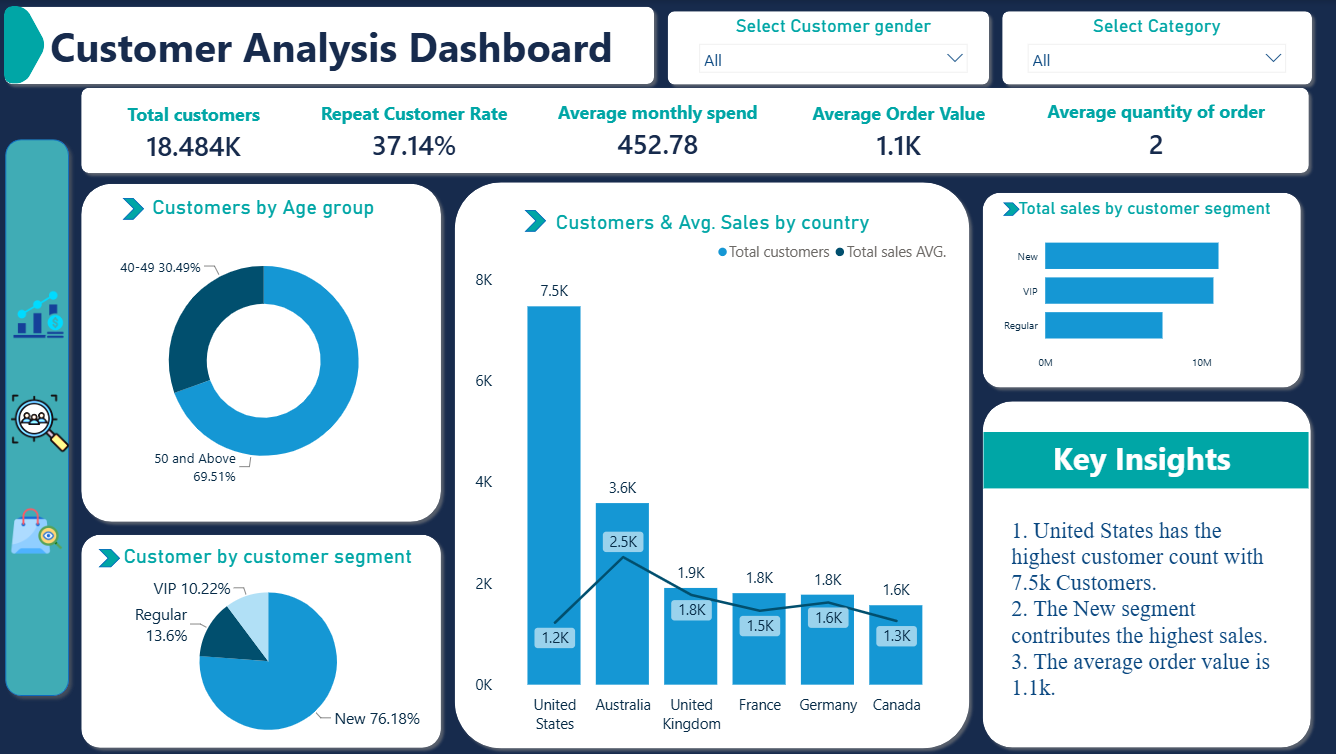

This screenshot's page, from the dashboard's own definition file:
{"tool":"powerbi","page":{"name":"Customers","canvas":[1600,900],"ordinal":1},"visuals":[{"type":"shape","box":[0,0,791.2,108.2],"z":0,"group":"g1"},{"type":"group","id":"g1","title":"Group 2","box":[0,0,1576.7,900.7],"z":0},{"type":"shape","box":[791.3,6,399.6,103.4],"z":1000,"group":"g1"},{"type":"textbox","box":[57.7,16.8,699.8,81.8],"z":1000},{"type":"shape","box":[1191,6,385.7,103.4],"z":2000,"group":"g1"},{"type":"pieChart","title":"Customer by customer segment","fields":{"Category":["Gold cust_report.customer_segment"],"Y":["CountNonNull(Gold cust_report.customer_key)"]},"box":[107.4,650.2,429.5,250.5],"z":2000},{"type":"shape","box":[536.8,208.8,630.3,691.9],"z":3000,"group":"g1"},{"type":"donutChart","title":"Customers by Age group","fields":{"Category":["Gold cust_report.age_group"],"Y":["CountNonNull(Gold dim_customers.customer_key)"]},"box":[119.3,232.6,393.7,367.8],"z":3000},{"type":"slicer","title":"Select Customer gender","fields":{"Values":["Gold dim_customers.gender"]},"box":[827.1,17.9,340,81.5],"z":4000},{"type":"slicer","title":"Select Category","fields":{"Values":["Gold dim_product.category"]},"box":[1218.8,17.9,328.1,79.5],"z":5000},{"type":"shape","box":[91.5,210.8,445.4,419.5],"z":5000,"group":"g1"},{"type":"cardVisual","title":"Key Insights","fields":{"Data":["_Measures.customer key insights"]},"box":[1193,548.8,357.9,351.9],"z":6000},{"type":"shape","box":[91.5,630.3,445.4,270.4],"z":6000,"group":"g1"},{"type":"cardVisual","fields":{"Data":["Count(Gold dim_customers.customer_id)"]},"box":[107.4,109.4,252.5,97.4],"z":7000},{"type":"shape","box":[1167.1,222.7,395.7,248.5],"z":7000,"group":"g1"},{"type":"cardVisual","fields":{"Data":["_Measures.Repeat Customer Rate"]},"box":[346,109.4,302.2,95.4],"z":8000},{"type":"shape","box":[1167.1,471.2,407.6,429.5],"z":8000,"group":"g1"},{"type":"shape","box":[91.6,97.4,1481.4,117.8],"z":9000,"group":"g1"},{"type":"cardVisual","fields":{"Data":["Avg(Gold cust_report.avg_monthly_spend)"]},"box":[628.3,105.4,318.1,99.4],"z":9000},{"type":"cardVisual","fields":{"Data":["_Measures.Average Order Value"]},"box":[930.5,109.4,288.3,95.4],"z":10000},{"type":"cardVisual","fields":{"Data":["_Measures.Average quantity of order"]},"box":[1216.8,107.4,330.1,95.4],"z":11000},{"type":"shape","box":[8,6,49.7,97.4],"z":12000},{"type":"shape","box":[149.1,236.6,25.8,25.8],"z":13000},{"type":"shape","box":[628.3,250.5,25.8,25.8],"z":14000},{"type":"shape","box":[1198.9,242.6,19.9,15.9],"z":15000},{"type":"shape","box":[119.3,655,25.8,21.9],"z":16000},{"type":"textbox","box":[1177.1,515,388,67.6],"z":17000},{"type":"lineStackedColumnComboChart","title":"Customers & Avg. Sales by country ","fields":{"Category":["Gold dim_customers.country"],"Y":["Count(Gold dim_customers.customer_id)"],"Y2":["Avg(Gold cust_report.total_sales)"]},"box":[564.7,250.5,578.6,632.3],"z":18000},{"type":"barChart","title":"Total sales by customer segment","fields":{"Category":["Gold cust_report.customer_segment"],"Y":["Sum(Gold cust_report.total_sales)"]},"box":[1191,236.6,355.9,214.7],"z":19000},{"type":"shape","box":[0,157.1,93.4,682],"z":19001},{"type":"image","box":[9.9,344,75.6,65.6],"z":19002},{"type":"image","box":[13.9,457.3,71.6,97.4],"z":19003},{"type":"image","box":[8,600.5,77.5,67.6],"z":19004}]}

Visuals, with their boxes in screenshot pixels (x1, y1, x2, y2), scaled from the page's 1600x900 canvas onto the 1336x754 screenshot:
shape: 0, 0, 661, 91
"Group 2" group: 0, 0, 1317, 753
shape: 661, 5, 994, 92
textbox: 48, 14, 633, 83
shape: 994, 5, 1317, 92
"Customer by customer segment" pieChart: 90, 545, 448, 753
shape: 448, 175, 975, 753
"Customers by Age group" donutChart: 100, 195, 428, 503
"Select Customer gender" slicer: 691, 15, 975, 83
"Select Category" slicer: 1018, 15, 1292, 82
shape: 76, 177, 448, 528
"Key Insights" cardVisual: 996, 460, 1295, 753
shape: 76, 528, 448, 753
cardVisual - Count(Gold dim_customers.customer_id): 90, 92, 301, 173
shape: 975, 187, 1305, 395
cardVisual - _Measures.Repeat Customer Rate: 289, 92, 541, 172
shape: 975, 395, 1315, 753
shape: 76, 82, 1313, 180
cardVisual - Avg(Gold cust_report.avg_monthly_spend): 525, 88, 790, 172
cardVisual - _Measures.Average Order Value: 777, 92, 1018, 172
cardVisual - _Measures.Average quantity of order: 1016, 90, 1292, 170
shape: 7, 5, 48, 87
shape: 124, 198, 146, 220
shape: 525, 210, 546, 231
shape: 1001, 203, 1018, 217
shape: 100, 549, 121, 567
textbox: 983, 431, 1307, 488
"Customers & Avg. Sales by country " lineStackedColumnComboChart: 472, 210, 955, 740
"Total sales by customer segment" barChart: 994, 198, 1292, 378
shape: 0, 132, 78, 703
image: 8, 288, 71, 343
image: 12, 383, 71, 465
image: 7, 503, 71, 560
